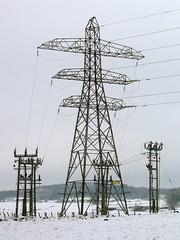power_tower: (33, 12, 148, 215)
